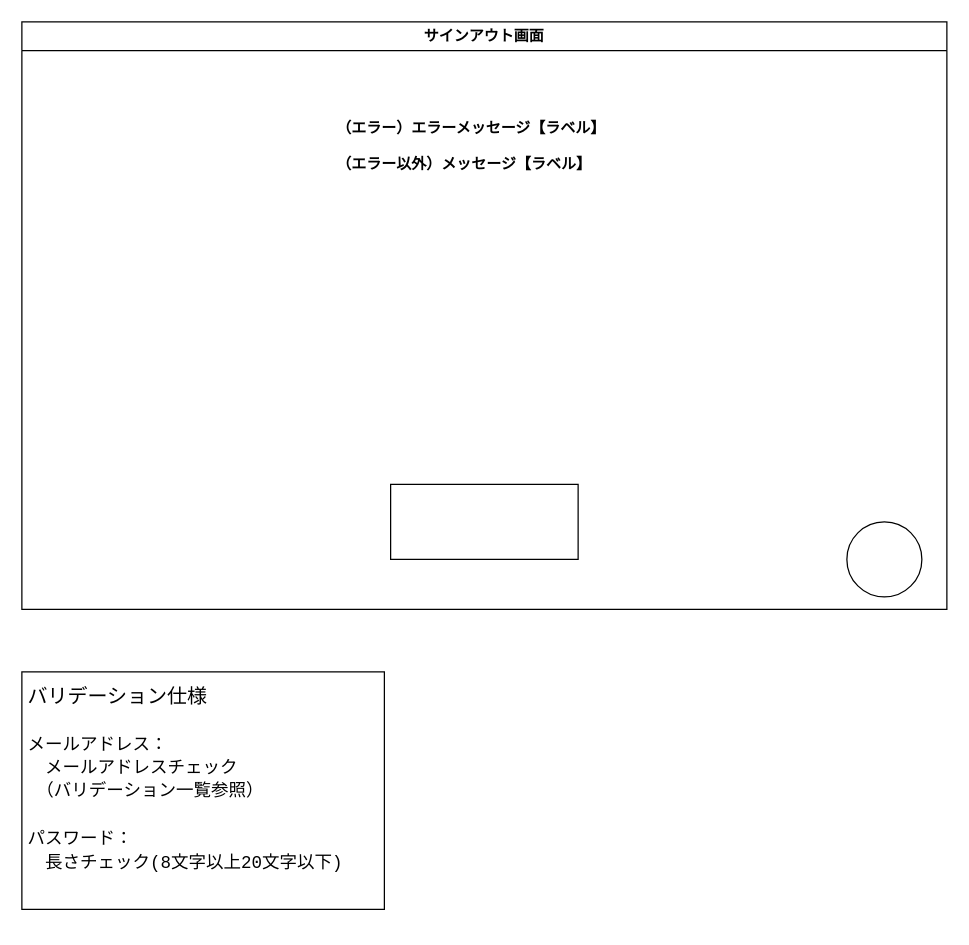
Some shapes in this 969 by 945 pixel diagram are drawn without their labels. Each missing label, with the centre of its shape:
"サインイン画面" belongs at point (483, 521).
"画面モード プルダウン" belongs at point (884, 559).
